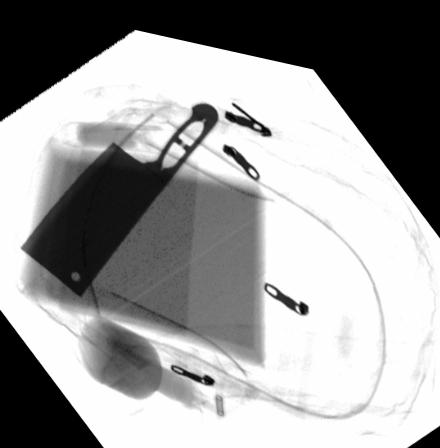Knife: (18, 91, 220, 295)
